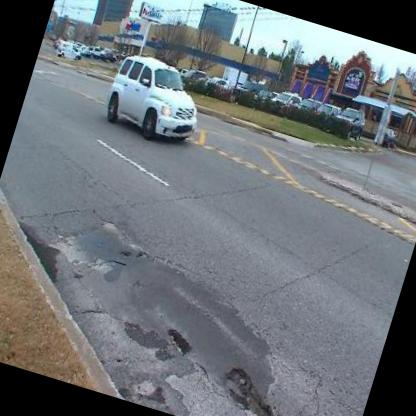pothole: (213, 361, 288, 416), (161, 323, 196, 354), (134, 244, 150, 262), (118, 244, 132, 258)
